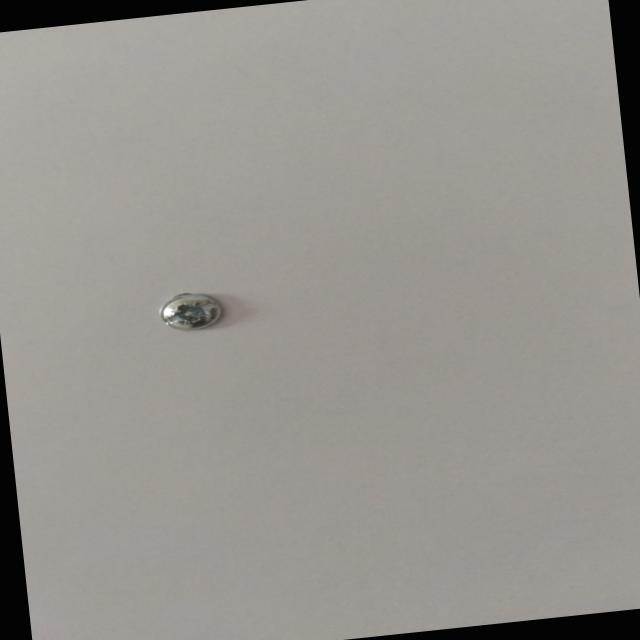Pozidriv: (147, 290, 240, 338)
